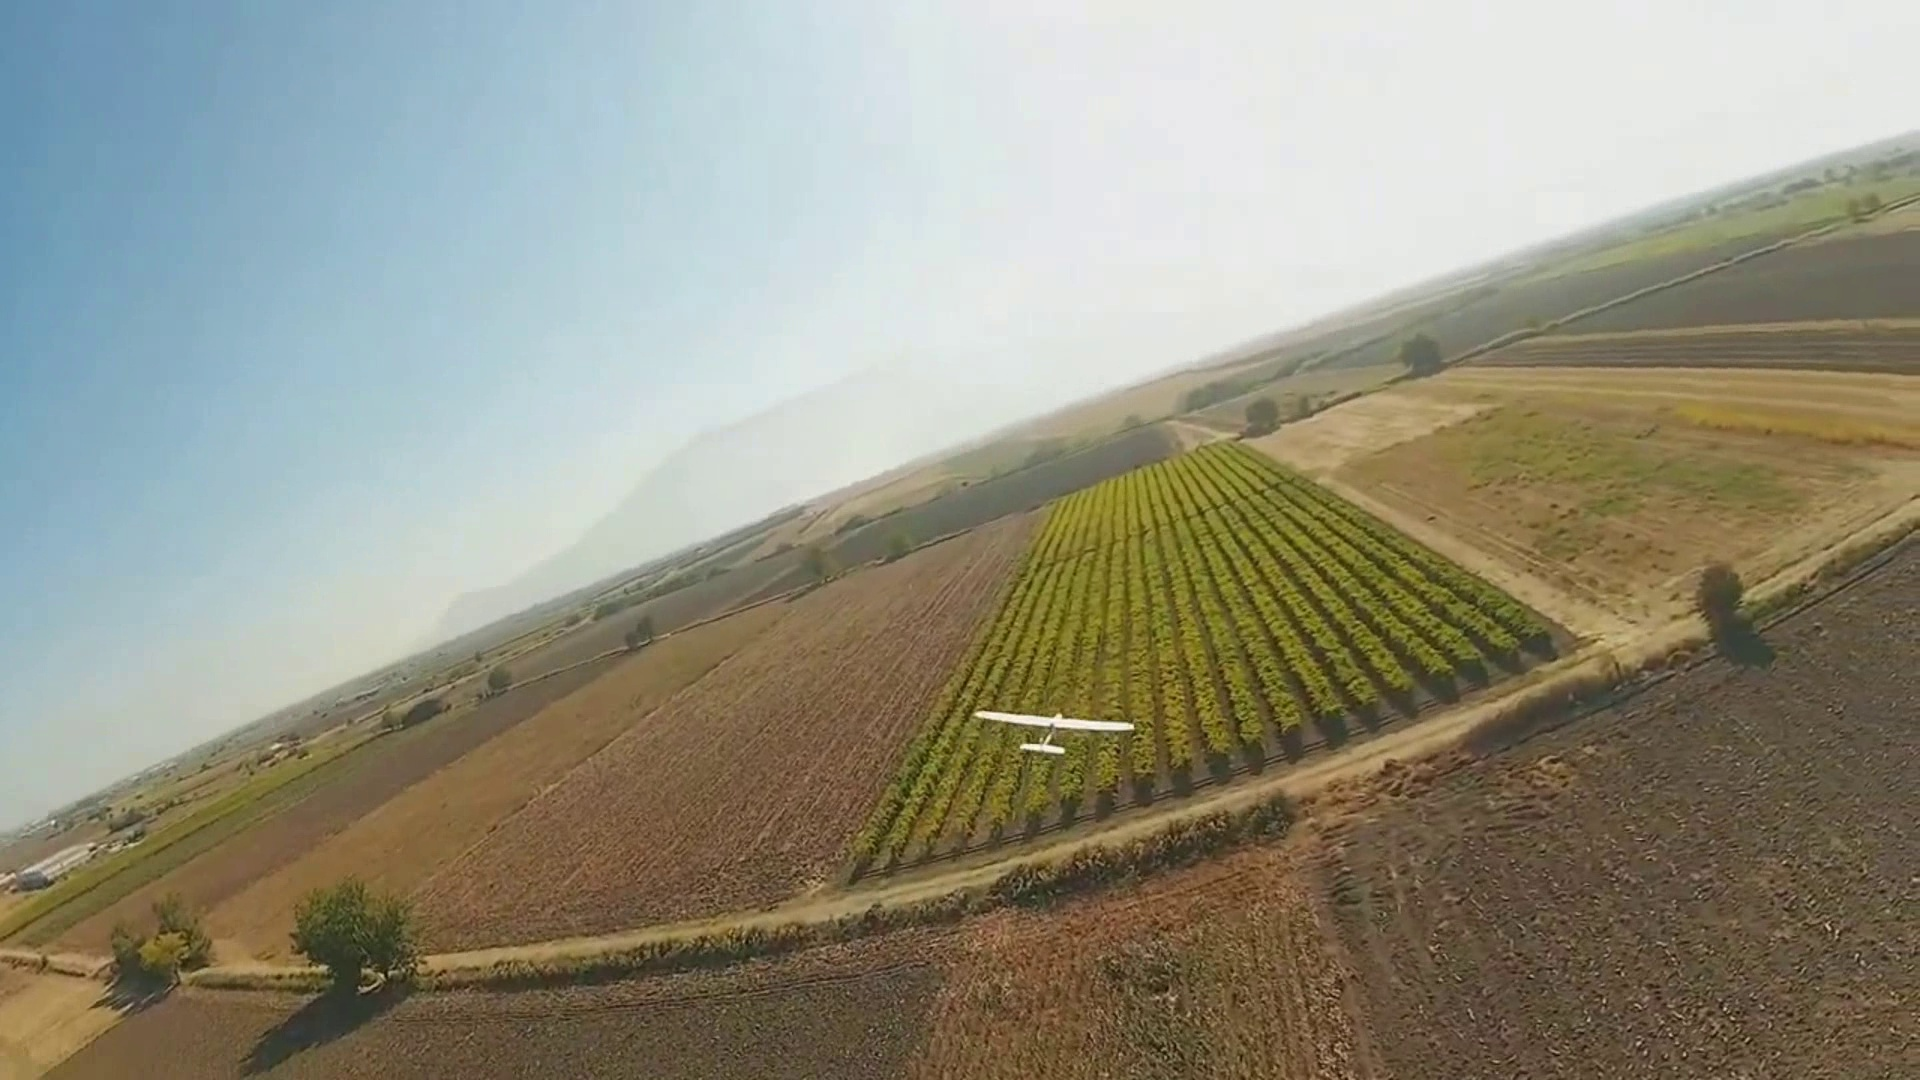airplane: (25, 111, 1920, 935)
